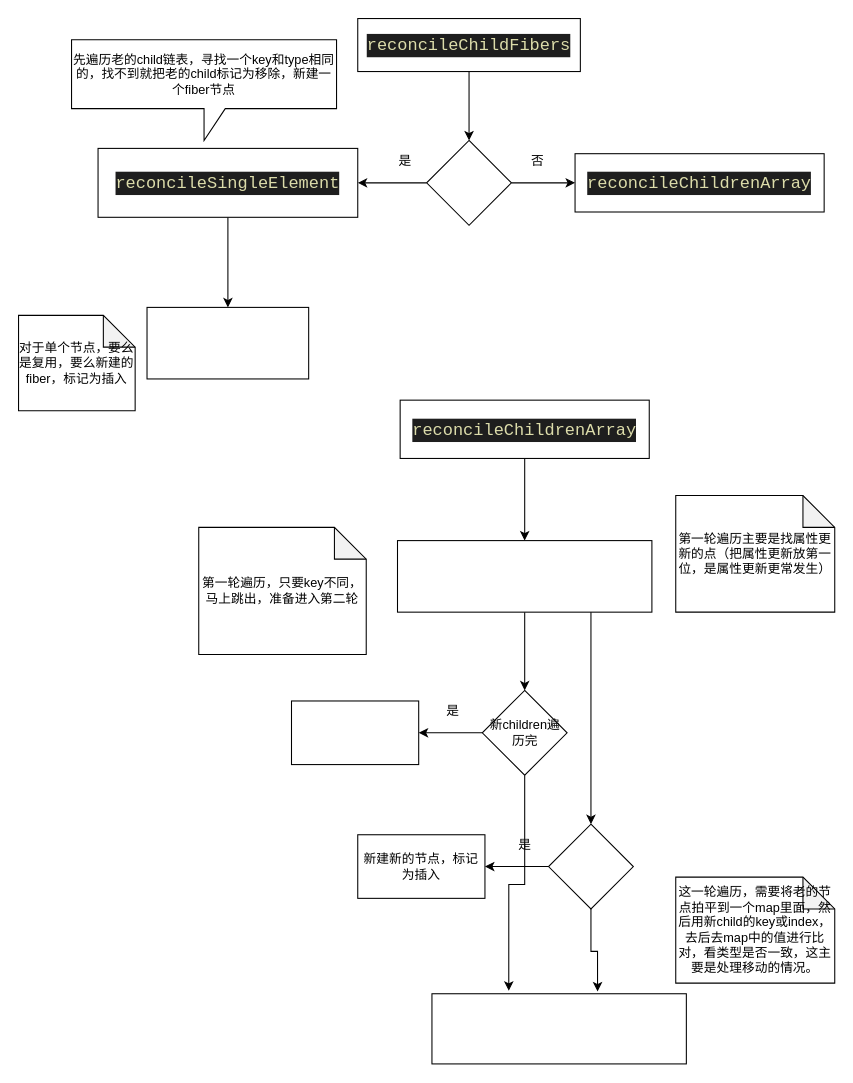
Image size: 853x1083. Some labels were removed from this diagram. Here are the shapes that lost their labels. From the top down, the box of each, then its label:
(426, 139, 511, 225): 单个节点
(146, 306, 309, 379): placeSingleChild
(396, 540, 652, 612): 第一轮遍历，同时遍历新的children（数组）以及老的fiber节点（链表）
(290, 700, 419, 765): 标记老child链余下的需要删除
(547, 823, 633, 909): 老的child链遍历完
(431, 993, 686, 1064): 经过第一轮遍历，新的children数组老的fiber都没有遍历完 ，进行的第二轮遍历
